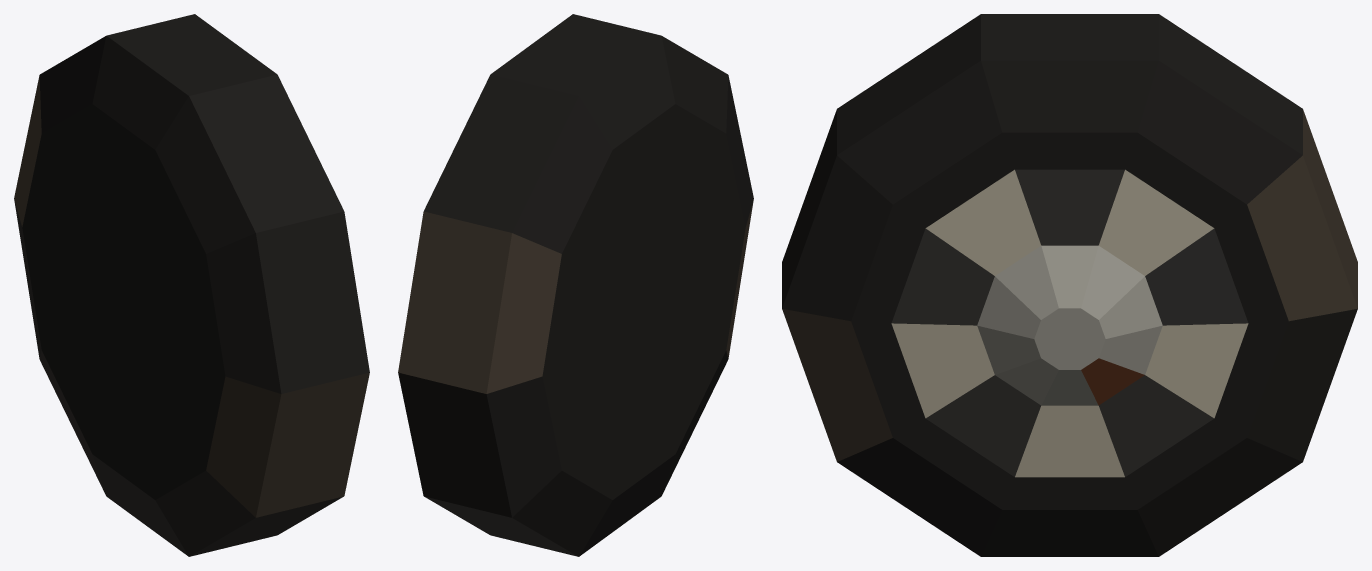
Rendered from carro_roda.glb.
3 views of the same model, side by side, from view 1: azimuth 30°, elevation 25°; view 2: azimuth 150°, elevation 25°; view 3: azimuth 270°, elevation 25° (orthographic). The views are drawn at different scales.
Visible parts, largest first — view 1: carro_roda.001; view 2: carro_roda.001; view 3: carro_roda.001.
Boxes of the visible parts, x1,y1,x2,y2 form: carro_roda.001: (14,14,369,556); carro_roda.001: (398,14,753,556); carro_roda.001: (782,14,1357,556).
Bounding box in the file's own units: 0.25 × 0.6467 × 0.68.
